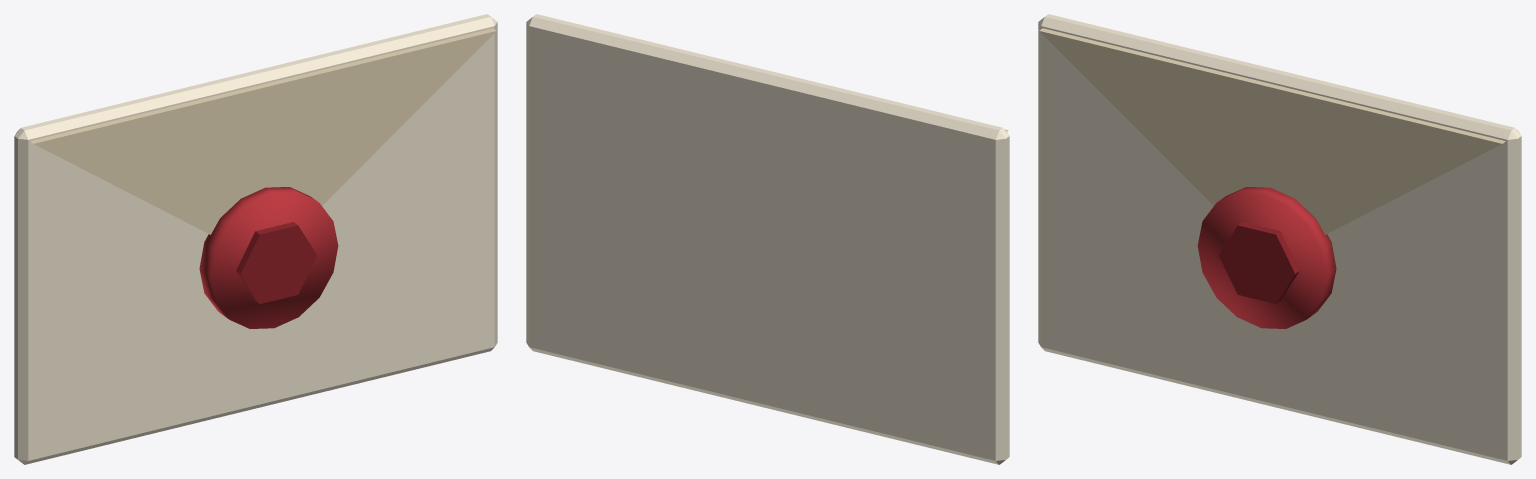
File: letter.glb
3 renders of one model, left to right at view 1: azimuth 30°, elevation 25°; view 2: azimuth 150°, elevation 25°; view 3: azimuth 330°, elevation 25°, orthographic.
Parts seen in each view (by area): view 1: letter; view 2: letter; view 3: letter.
Boxes of the visible parts, x1,y1,x2,y2 form: letter: [14, 14, 497, 464]; letter: [526, 14, 1009, 464]; letter: [1038, 14, 1521, 464].
Size of the model in its own units: 0.3 by 0.2 by 0.031.
